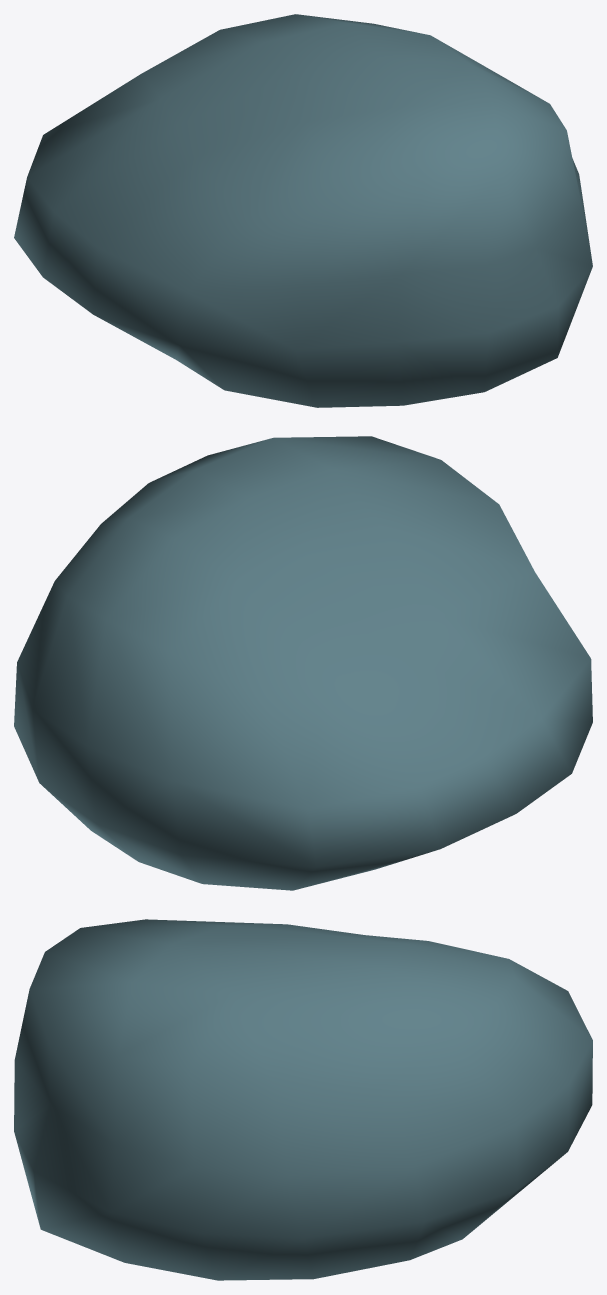
Rendered from Rock_C_05_LOD2.gltf.
3 renders of one model, top to bottom at view 1: azimuth 30°, elevation 25°; view 2: azimuth 150°, elevation 25°; view 3: azimuth 270°, elevation 25°, orthographic. The views are drawn at different scales.
Visible parts, largest first — view 1: Rock_C_05_LOD2_Cube.764; view 2: Rock_C_05_LOD2_Cube.764; view 3: Rock_C_05_LOD2_Cube.764.
Boxes of the visible parts, x1,y1,x2,y2 form: Rock_C_05_LOD2_Cube.764: (14, 14, 592, 407); Rock_C_05_LOD2_Cube.764: (14, 436, 592, 890); Rock_C_05_LOD2_Cube.764: (14, 919, 592, 1280).
Size of the model in its own units: 5.2 by 2.78 by 5.45.
Materials: 1 (1 with a texture image).
